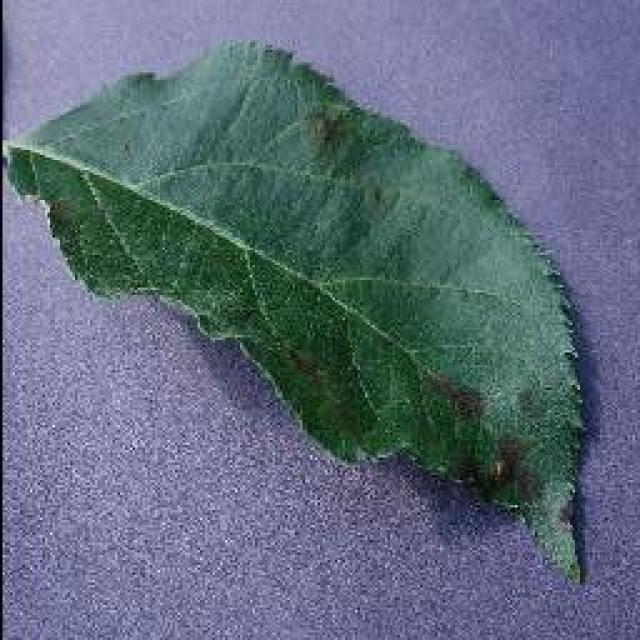apple scab disease: (2, 35, 592, 587)
